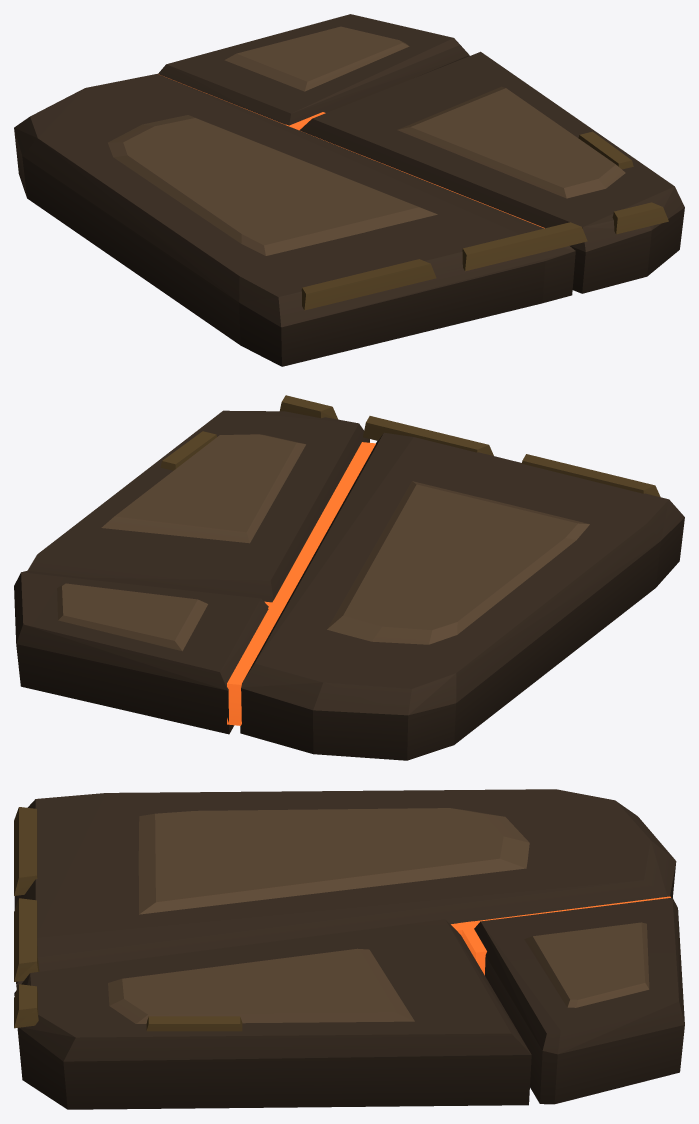
File: crustplate.glb
3 renders of one model, top to bottom at view 1: azimuth 30°, elevation 25°; view 2: azimuth 150°, elevation 25°; view 3: azimuth 270°, elevation 25°, orthographic. The views are drawn at different scales.
Parts seen in each view (by area): view 1: crustplate.001; view 2: crustplate.001; view 3: crustplate.001.
Part boxes in pixels (bbox=[...]): crustplate.001: bbox=[14, 14, 684, 366]; crustplate.001: bbox=[14, 395, 684, 760]; crustplate.001: bbox=[14, 789, 684, 1109].
Size of the model in its own units: 2.35 by 0.3501 by 2.64.
